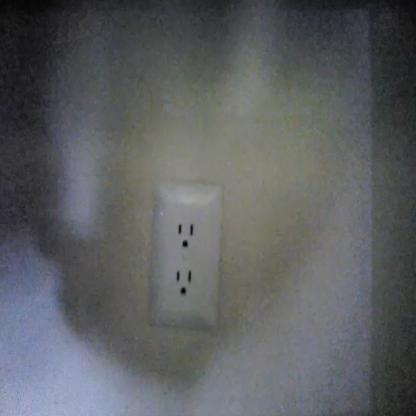OUTLET: (152, 182, 221, 328)
